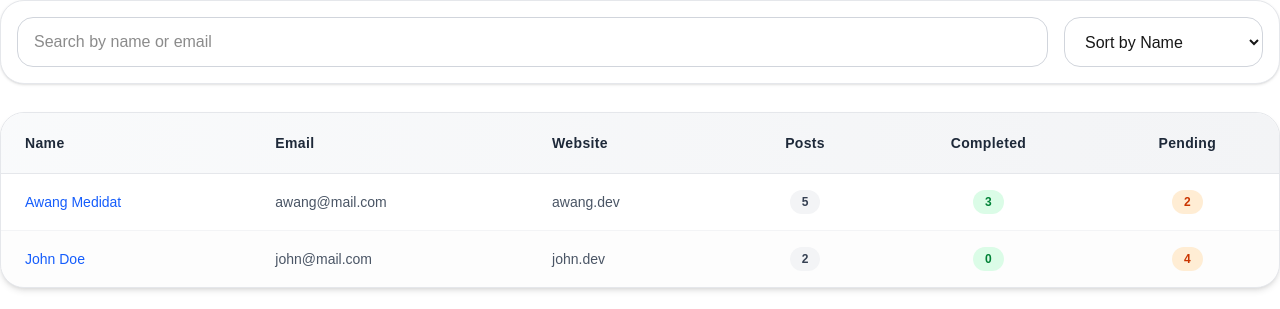
Scenario: UsersTable › filters users by search
Type "Awang" into the field with placeholder "Search by name or email" at (532, 42), box [17,17,1048,67]
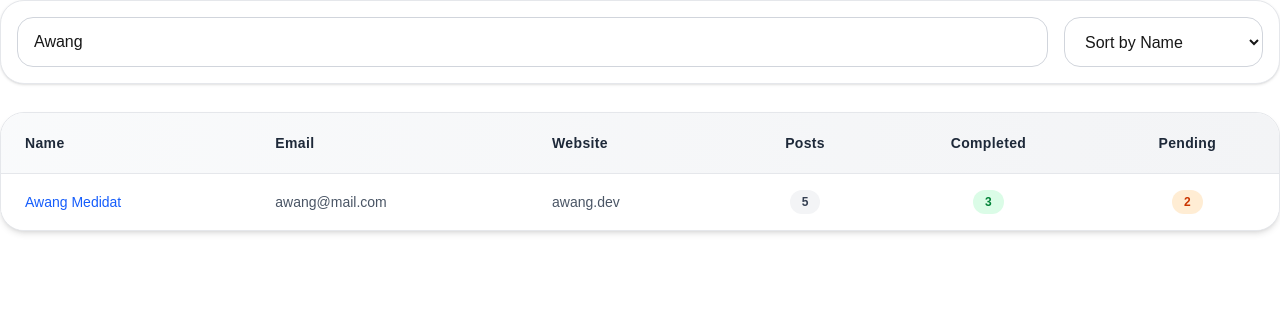
Expected: the link "Awang Medidat" is shown, [25,194,121,210]
Expected: the link "John Doe" is gone
